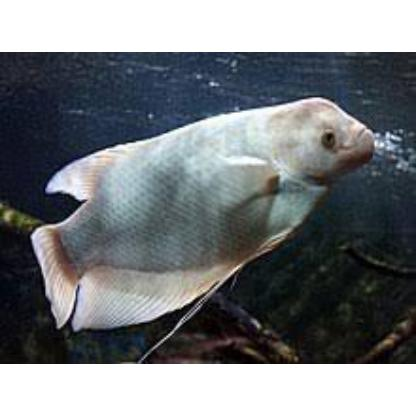gurame: (39, 89, 379, 334)
